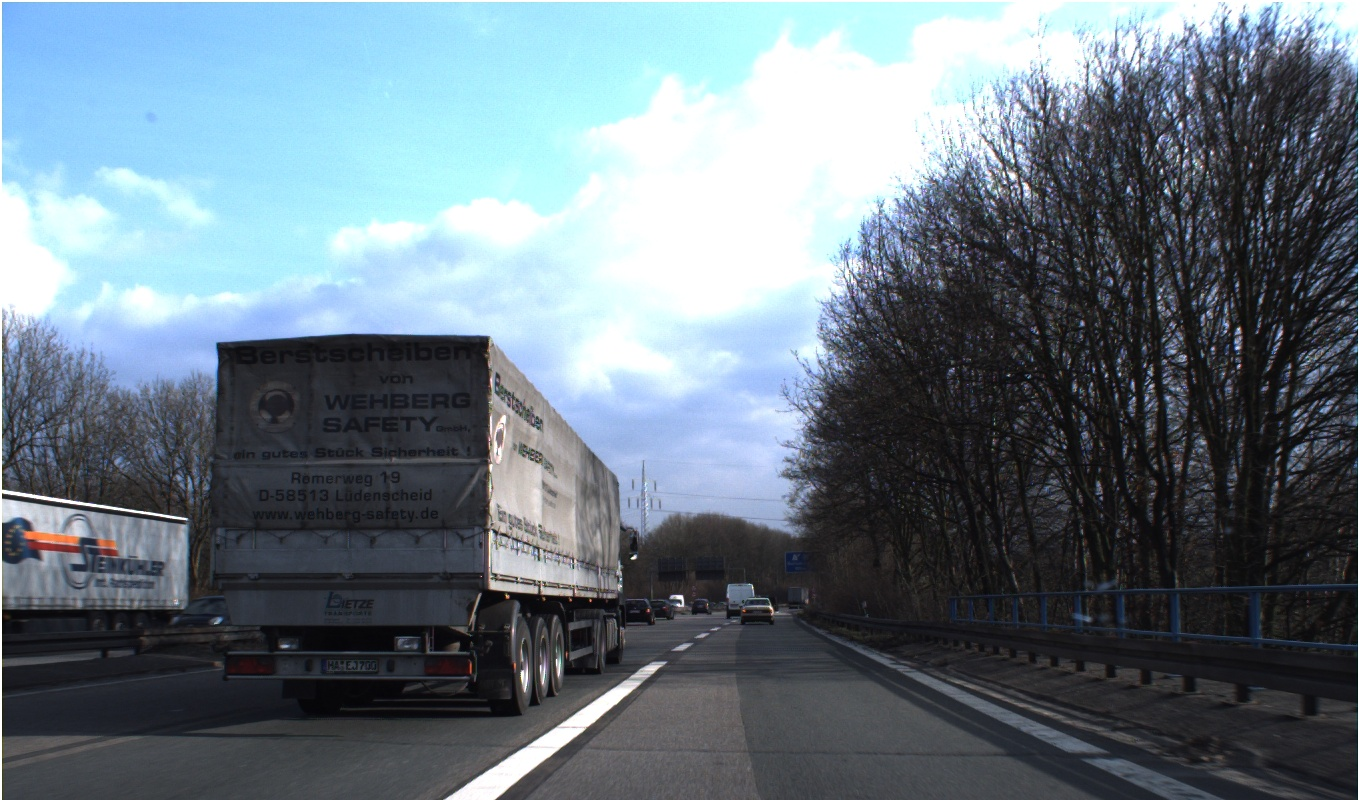Keep right: (650, 505, 671, 526)
No passing: (885, 392, 926, 432), (262, 423, 297, 460)
